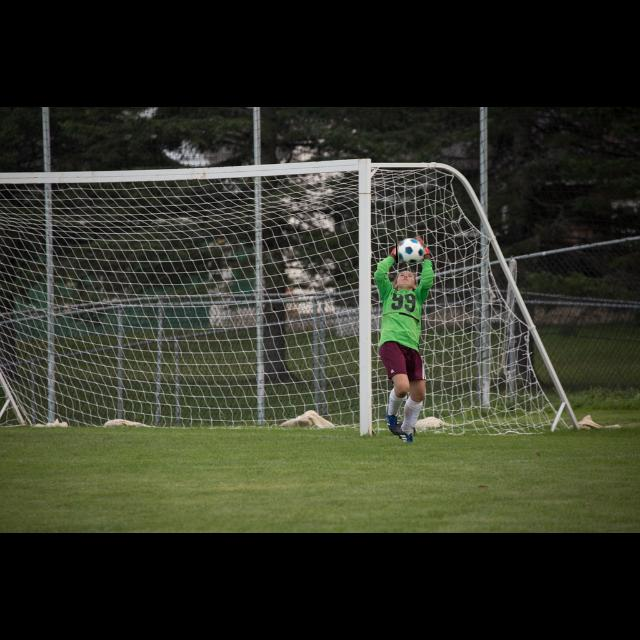Football: (396, 235, 424, 263)
